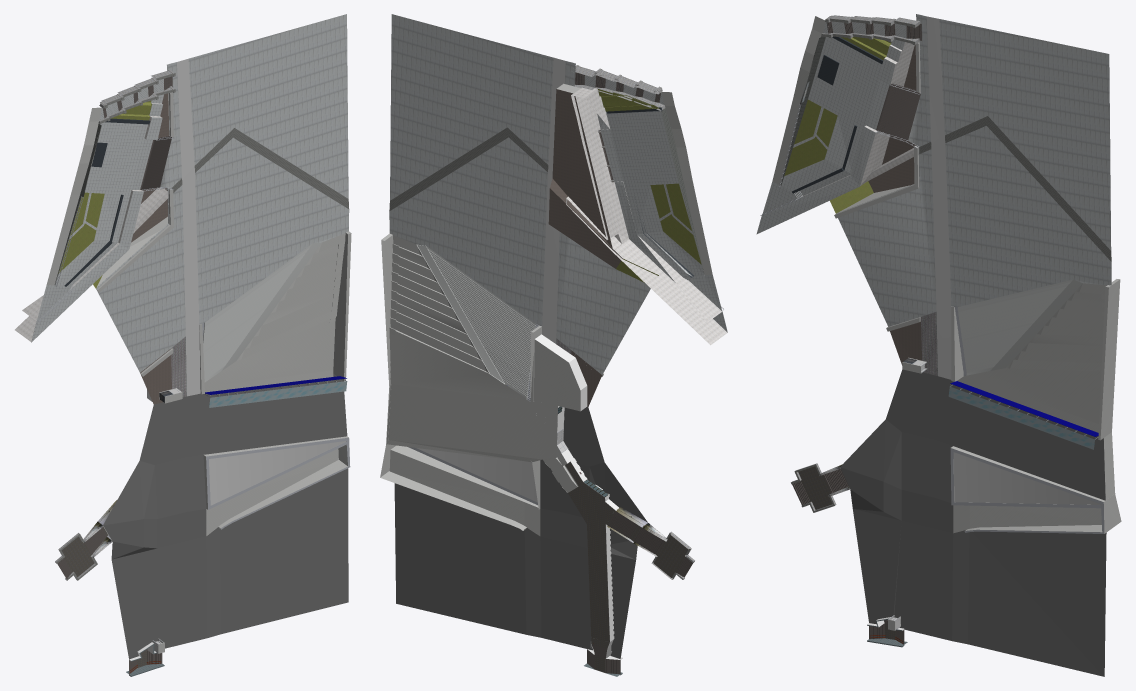
File: Kaarli_pst_1.obj
3 views of the same model, side by side, from view 1: azimuth 30°, elevation 25°; view 2: azimuth 150°, elevation 25°; view 3: azimuth 330°, elevation 25° (orthographic). The views are drawn at different scales.
Visible parts, largest first — view 1: Kaarli_pst_1; view 2: Kaarli_pst_1; view 3: Kaarli_pst_1.
Boxes of the visible parts, x1,y1,x2,y2 form: Kaarli_pst_1: (15, 14, 351, 676); Kaarli_pst_1: (380, 14, 727, 676); Kaarli_pst_1: (756, 14, 1121, 676).
Bounding box in the file's own units: 108 × 191 × 15.15.
